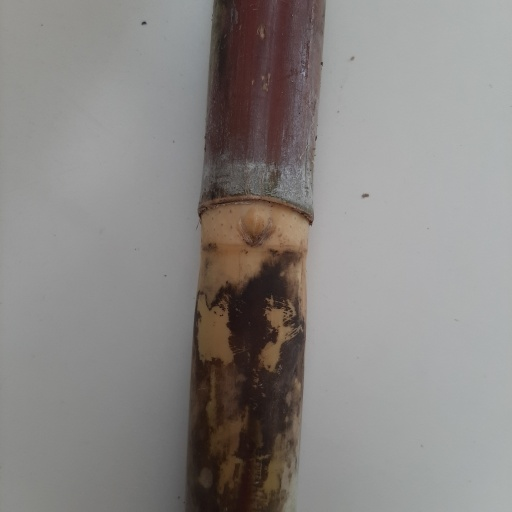Bud: (235, 204, 275, 247)
